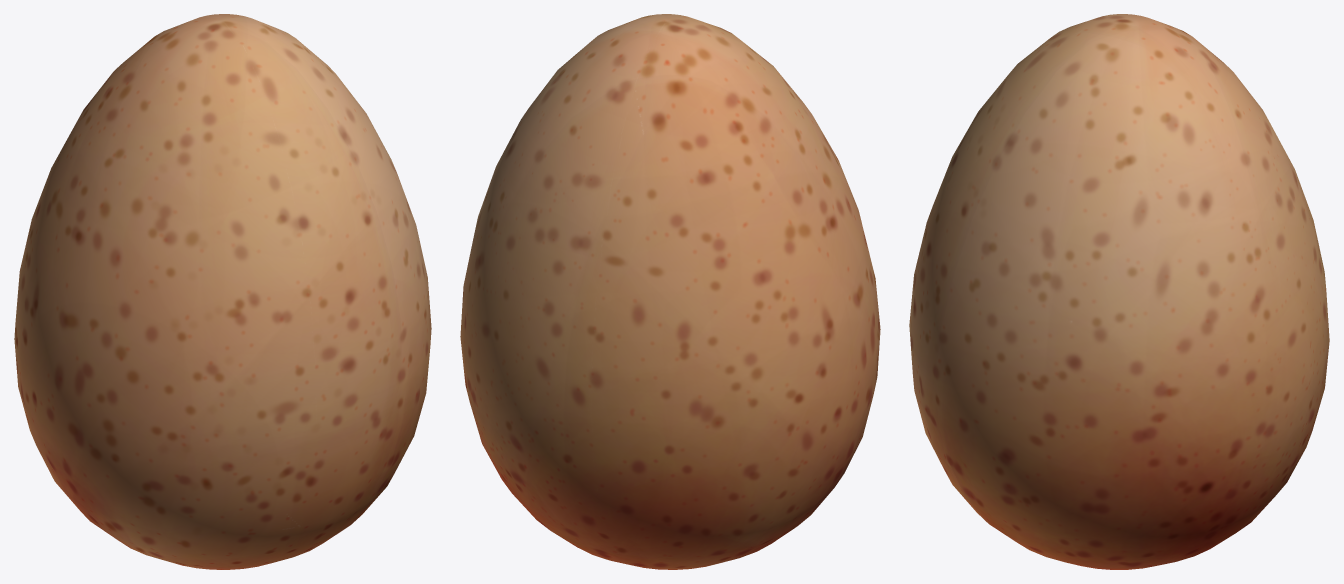
The model's file is Egg.obj.
3 views of the same model, side by side, from view 1: azimuth 30°, elevation 25°; view 2: azimuth 150°, elevation 25°; view 3: azimuth 270°, elevation 25° (orthographic).
Parts seen in each view (by area): view 1: Sphere.001; view 2: Sphere.001; view 3: Sphere.001.
Part boxes in pixels (<box>): Sphere.001: <box>14,14,431,569</box>; Sphere.001: <box>460,14,880,569</box>; Sphere.001: <box>909,14,1329,569</box>.
Bounding box in the file's own units: 2.22 × 3.08 × 2.22.
